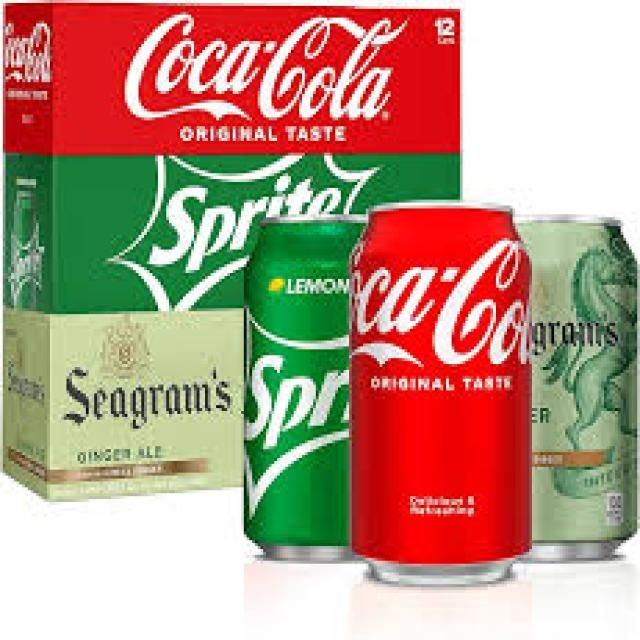Cans: (341, 194, 543, 593), (510, 212, 637, 566), (238, 208, 360, 564)
